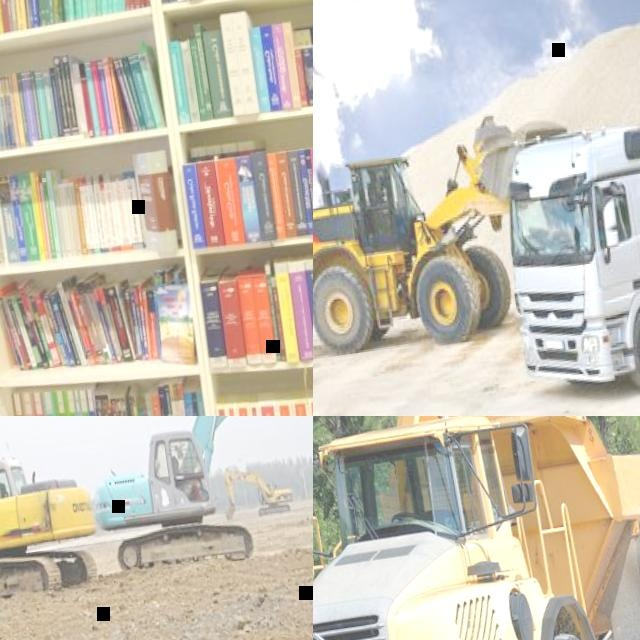Person: (171, 455, 184, 477), (0, 483, 9, 499)
machinery: (313, 99, 594, 373), (313, 416, 640, 640), (495, 84, 640, 407), (73, 416, 313, 579), (0, 416, 102, 632), (218, 461, 295, 523)
